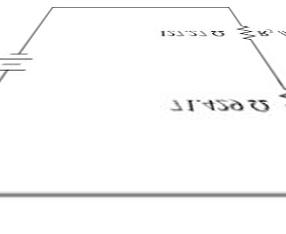resistor: (232, 17, 255, 47)
